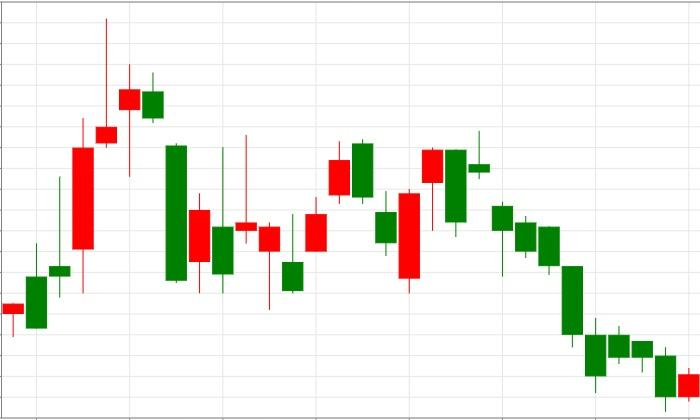shooting_star_fall: (2, 18, 117, 337)
